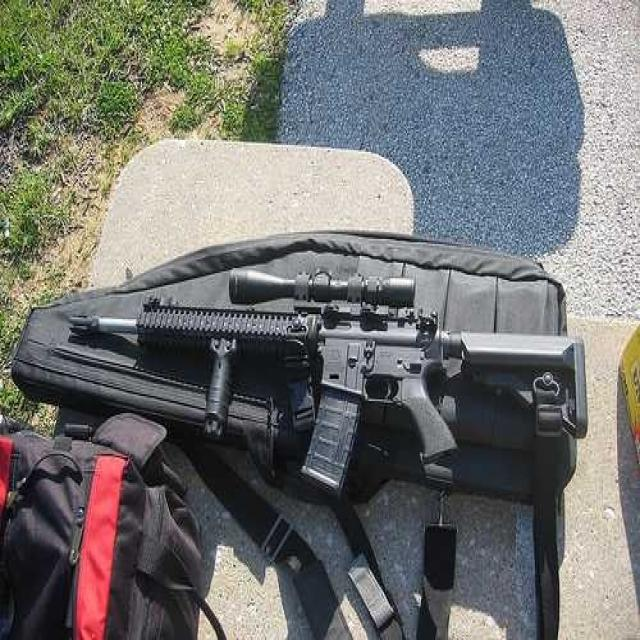heavyweapon: (43, 261, 599, 491)
